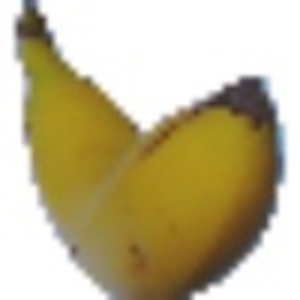banana: (13, 7, 283, 293)
